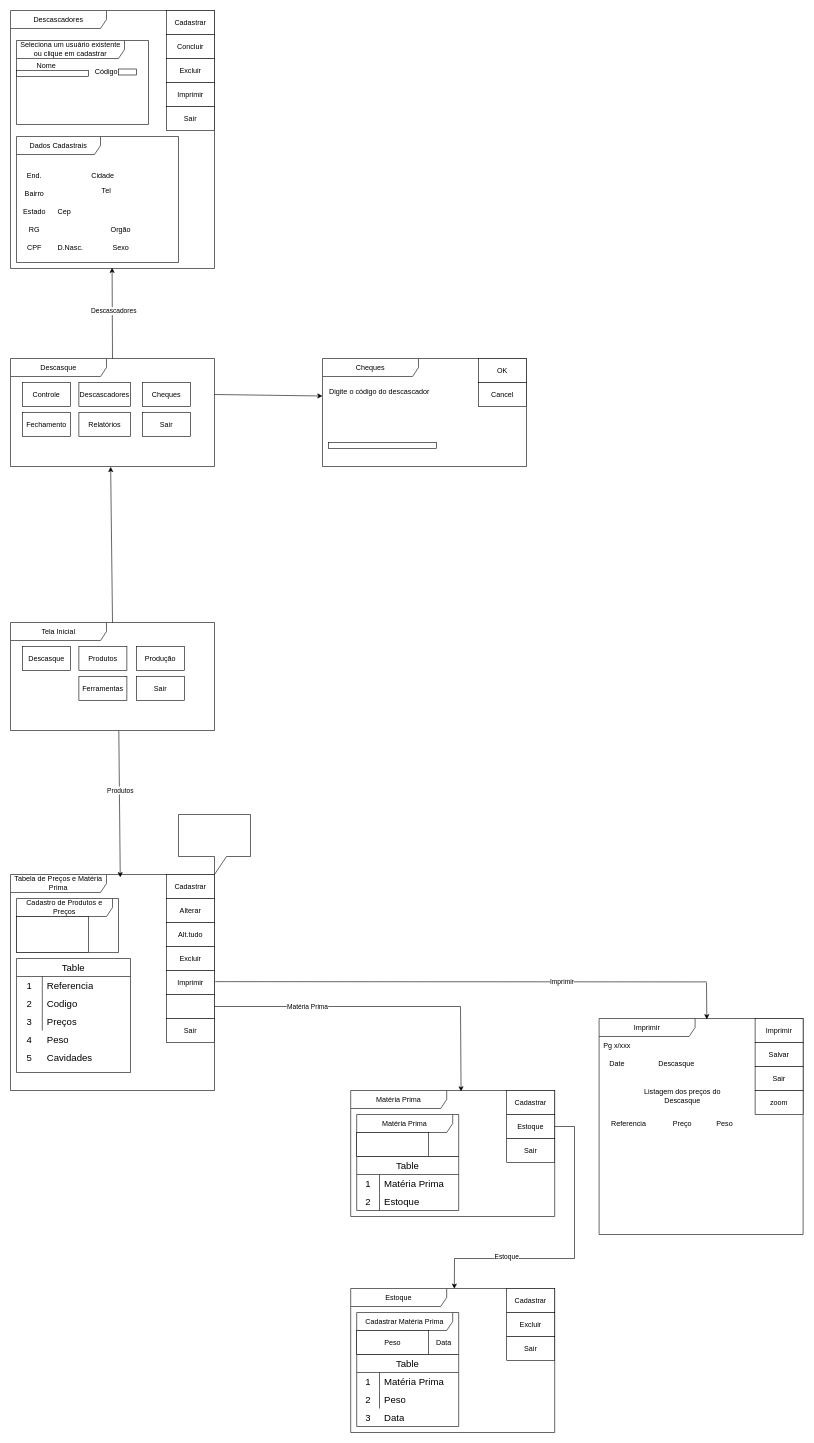
The diagram is 814 pixels wide and 1443 high, and some of its shapes have lost their labels. Here are the shapes that lost their labels. From the top down, the centre of each, then its label:
the point at 214,844: Cadastrar/Alterar todos os campos devem estar preenchidos.
the point at 52,934: Referencia: Peso: Código: Peço: Cavidade:
the point at 190,1006: MP
the point at 392,1144: Cadastro de MP
